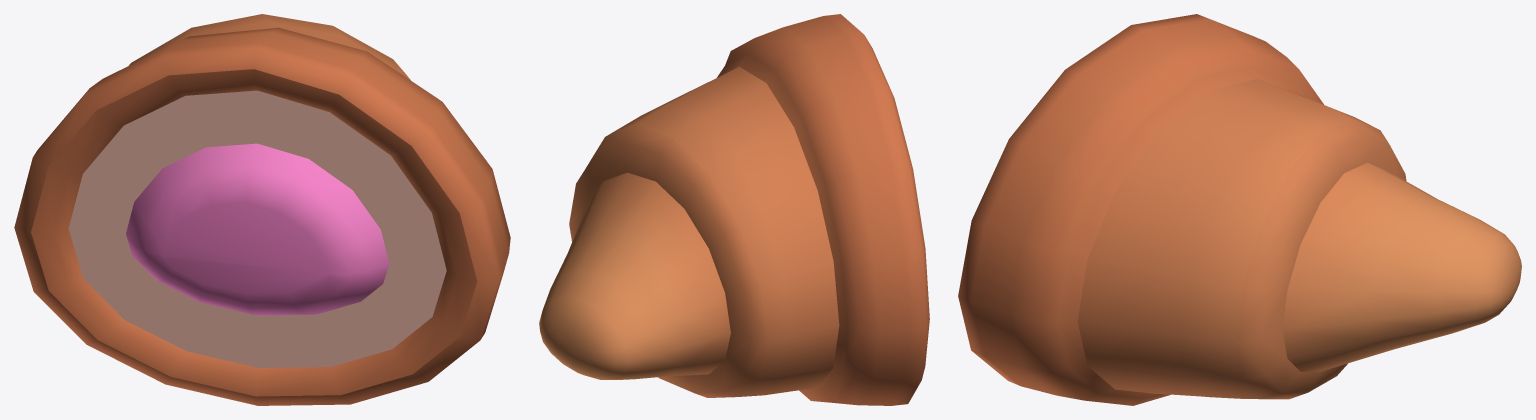
The model's file is Croissant_Slice_V1_03.fbx.
3 renders of one model, left to right at view 1: azimuth 30°, elevation 25°; view 2: azimuth 150°, elevation 25°; view 3: azimuth 270°, elevation 25°, orthographic. The views are drawn at different scales.
Visible parts, largest first — view 1: Croissant_Slice_V1_03; view 2: Croissant_Slice_V1_03; view 3: Croissant_Slice_V1_03.
Boxes of the visible parts, bbox=[...] form: Croissant_Slice_V1_03: bbox=[14, 14, 510, 405]; Croissant_Slice_V1_03: bbox=[539, 14, 929, 405]; Croissant_Slice_V1_03: bbox=[958, 14, 1521, 405].
Size of the model in its own units: 36.23 by 30.87 by 45.58.
